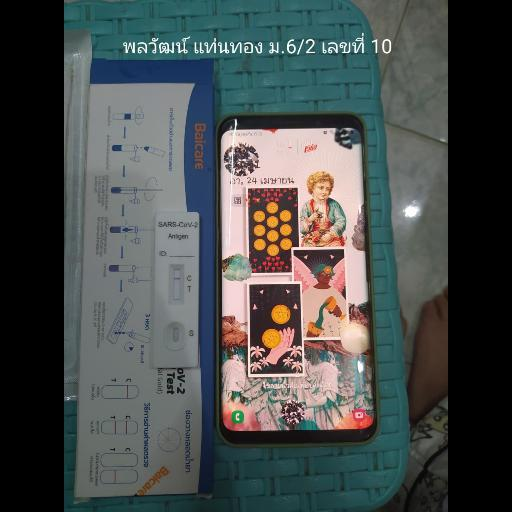Neg: (156, 212, 198, 366)
